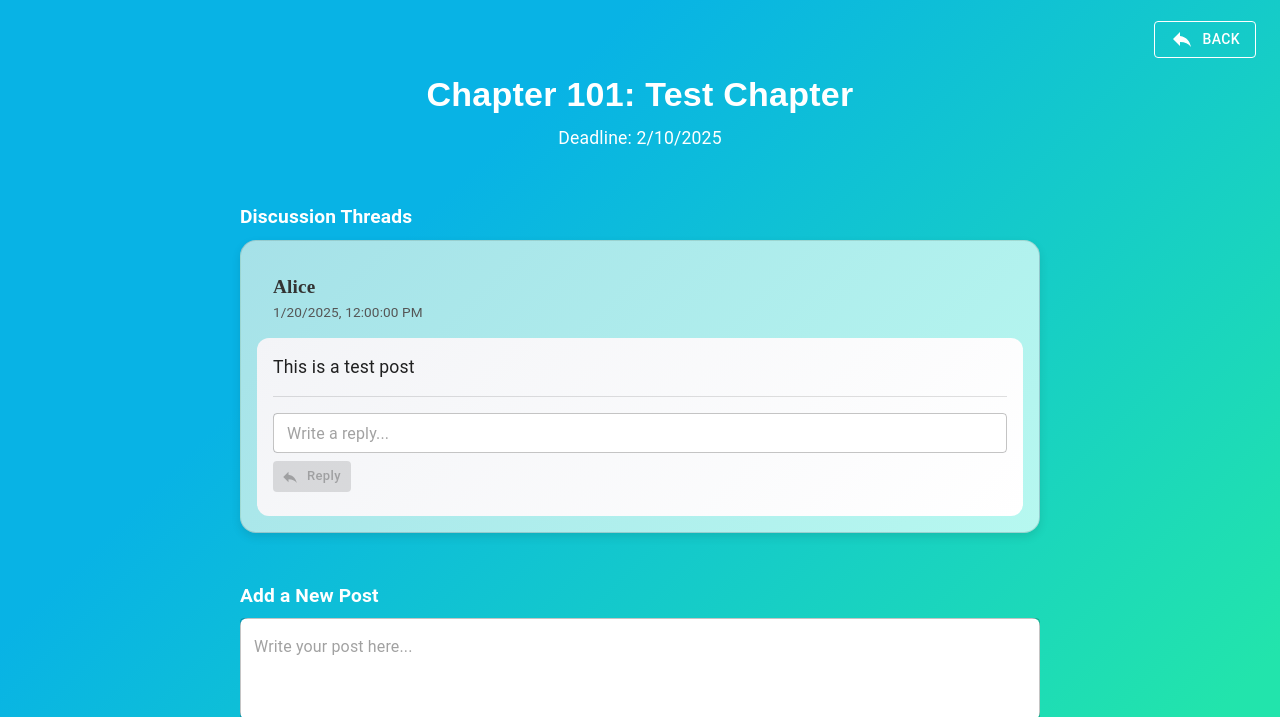
Test: DiscussionPage Component › allows adding a new post
// find input field and add new discussion post
Type "New discussion post" into the text box with placeholder "Write your post here...".
click(640, 670); type("New discussion post")  # box top-left (254, 635), bottom-right (1026, 704)
(page scrolled)
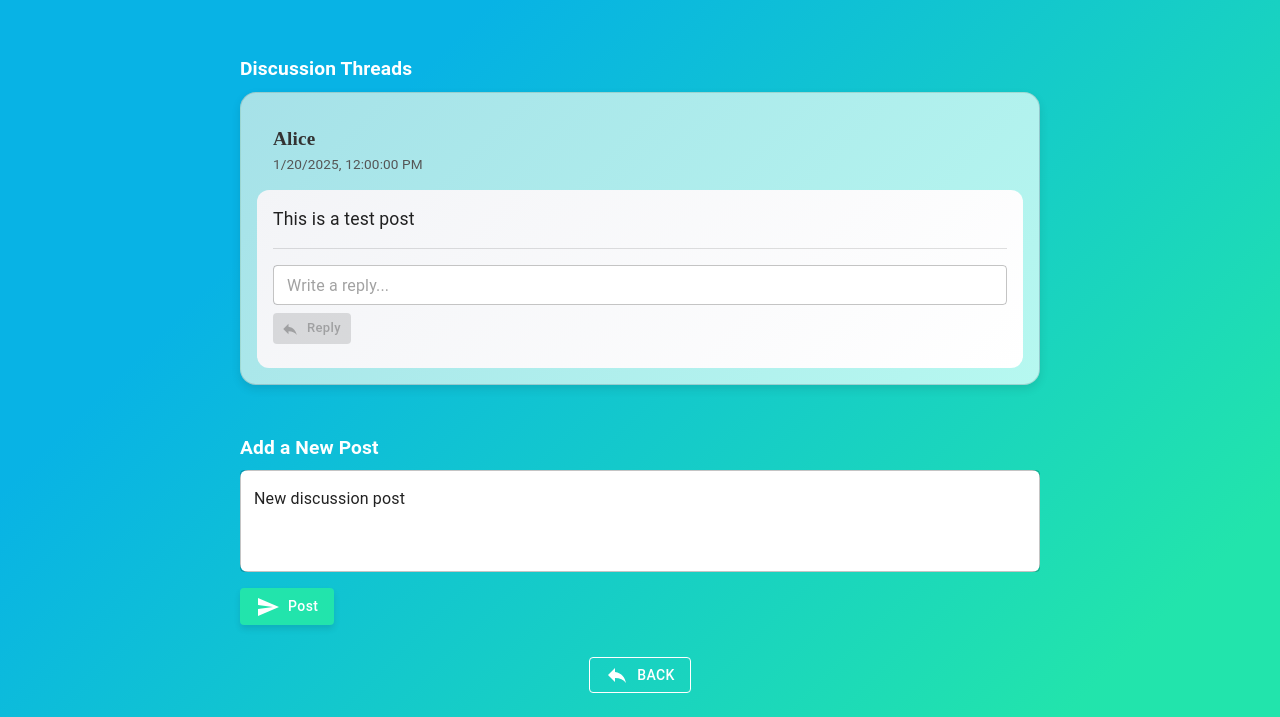
Now the button "Post" is enabled
Click the button "Post".
click(287, 607)  # box top-left (240, 588), bottom-right (334, 625)
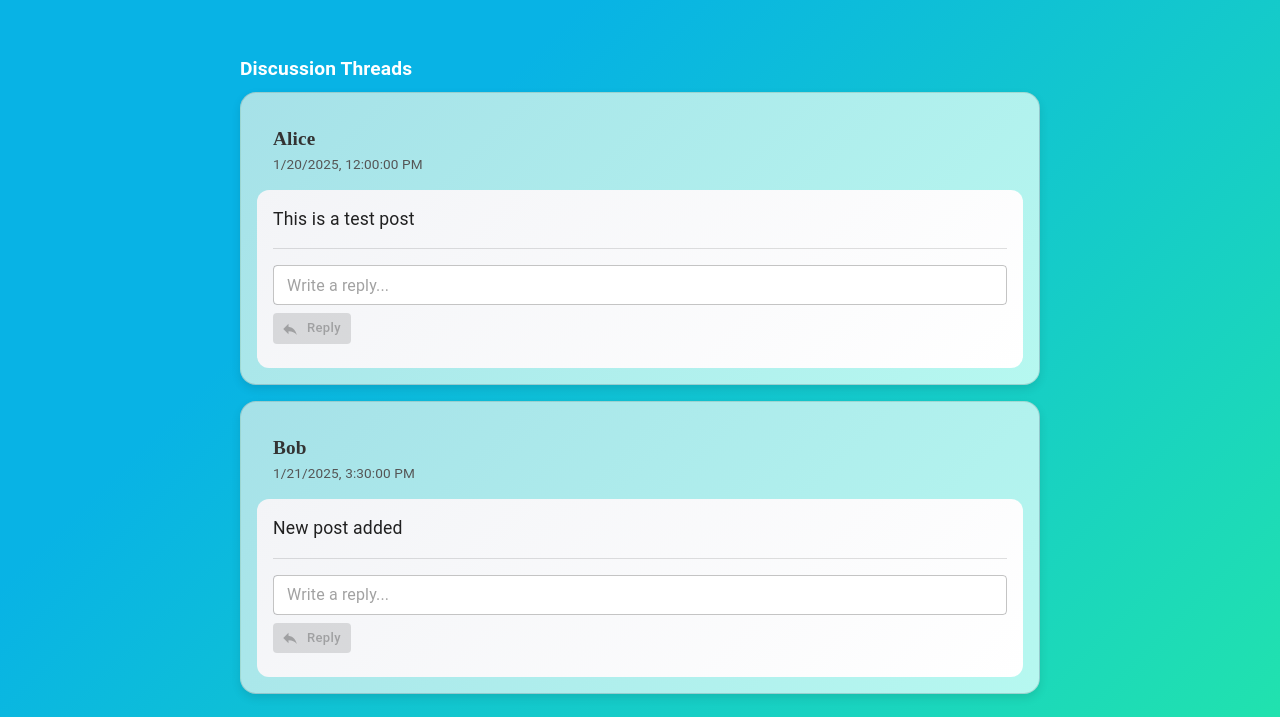
Now the text "New post added" is shown, box top-left (273, 518), bottom-right (403, 538)
